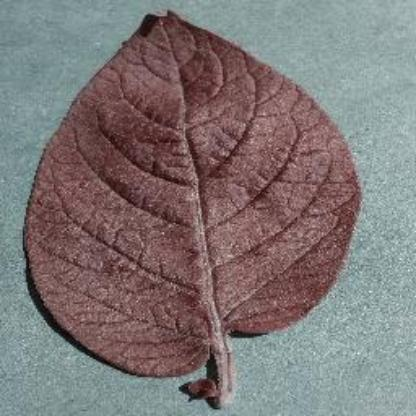Healthy-plant: (21, 16, 385, 408)
